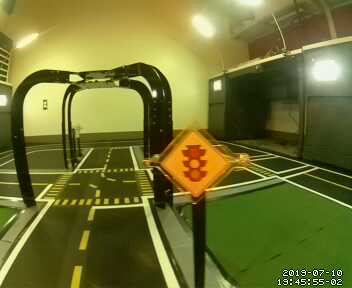Traffic light sign: (160, 132, 228, 198)
